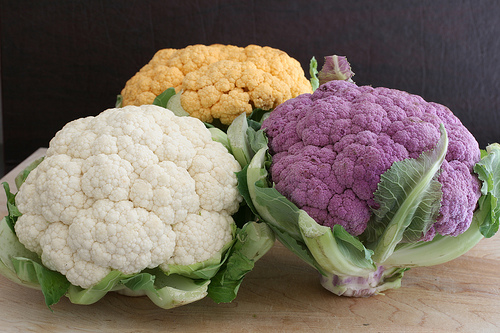cauliflower: (245, 54, 499, 298), (2, 104, 245, 310)
